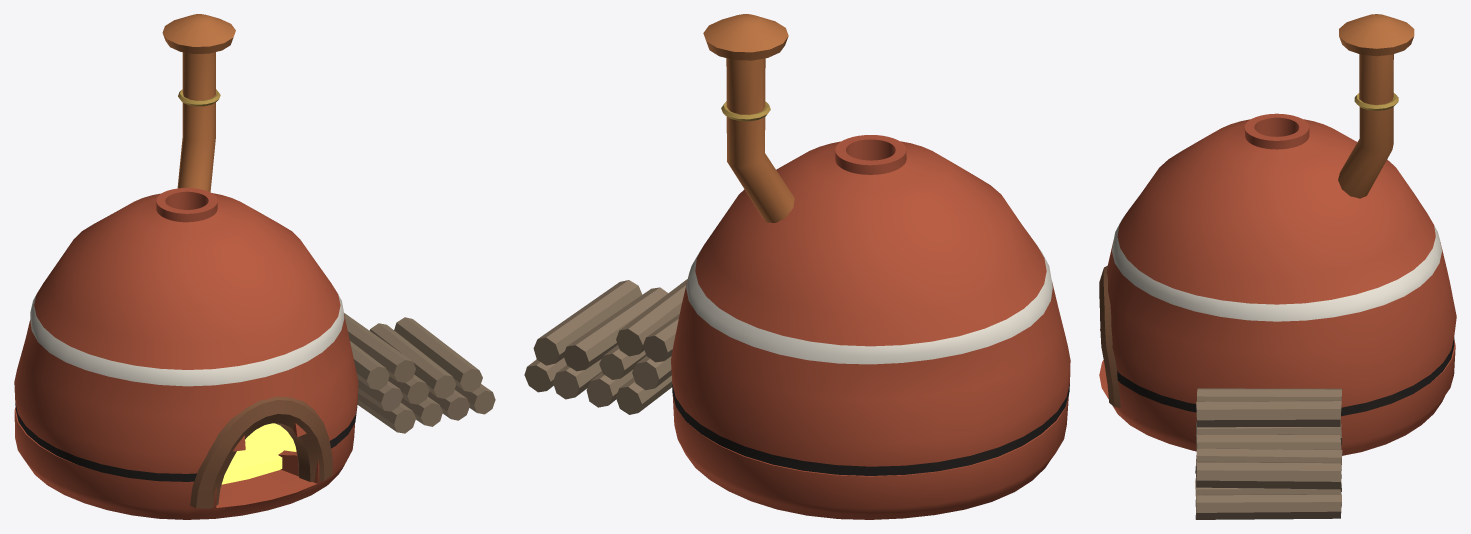
Rendered from deco_kiln.fbx.
The picture shows the model from 3 angles, left to right: view 1: azimuth 30°, elevation 25°; view 2: azimuth 150°, elevation 25°; view 3: azimuth 270°, elevation 25°; orthographic projection. The views are drawn at different scales.
Visible parts, largest first — view 1: Kiln_Dome, Kiln_Fuel, Kiln_Chimney, Kiln_MouthRim, Kiln_Fire; view 2: Kiln_Dome, Kiln_Fuel, Kiln_Chimney; view 3: Kiln_Dome, Kiln_Fuel, Kiln_Chimney, Kiln_MouthRim.
Boxes of the visible parts, <box> form: Kiln_Dome: <box>14,188,358,519</box>; Kiln_Fuel: <box>344,313,495,433</box>; Kiln_Chimney: <box>162,14,235,192</box>; Kiln_MouthRim: <box>190,396,332,508</box>; Kiln_Fire: <box>221,423,296,484</box>; Kiln_Dome: <box>671,135,1070,519</box>; Kiln_Fuel: <box>524,279,687,414</box>; Kiln_Chimney: <box>703,14,794,222</box>; Kiln_Dome: <box>1099,113,1456,455</box>; Kiln_Fuel: <box>1195,388,1342,519</box>; Kiln_Chimney: <box>1338,14,1414,198</box>; Kiln_MouthRim: <box>1099,266,1120,407</box>.
Size of the model in its own units: 316 by 276 by 222.
